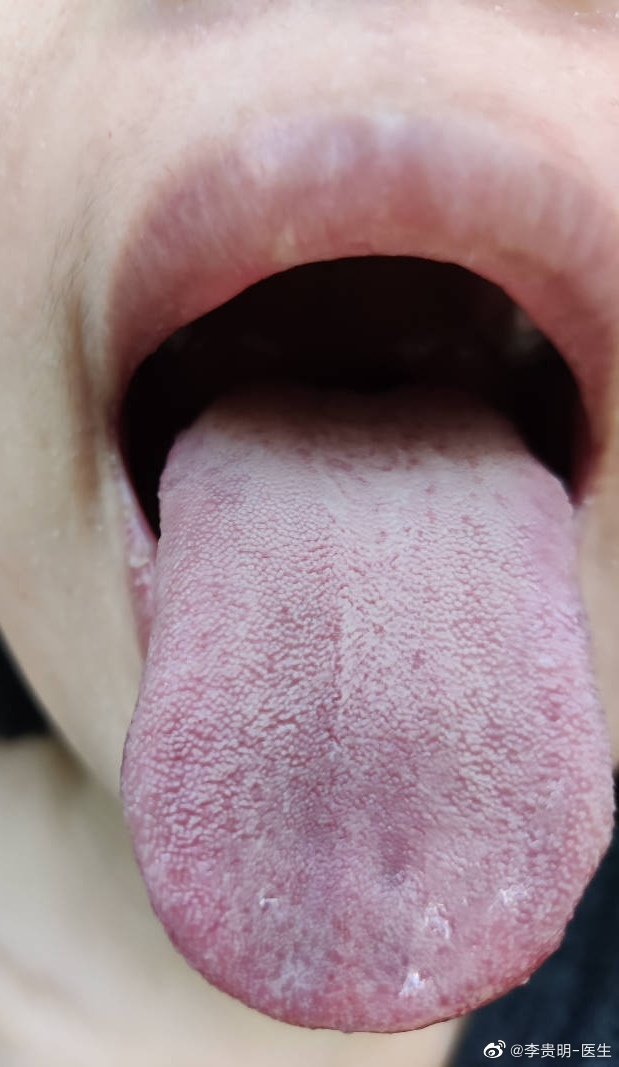baitaishe: (120, 362, 618, 1032)
